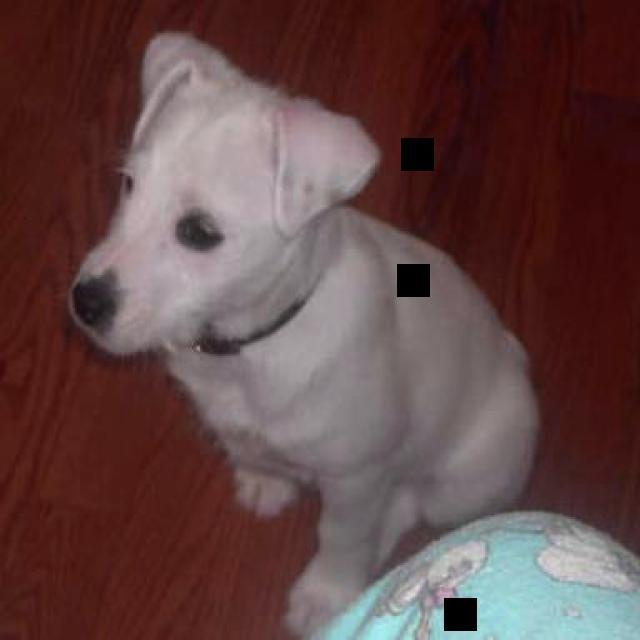puppy-dog: (65, 30, 542, 632)
